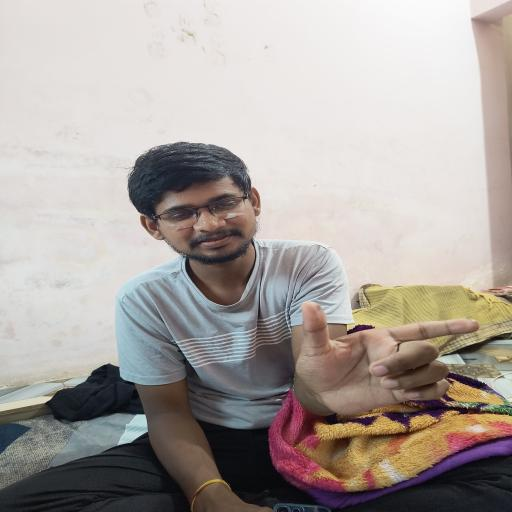Sorry: (282, 284, 492, 426)
